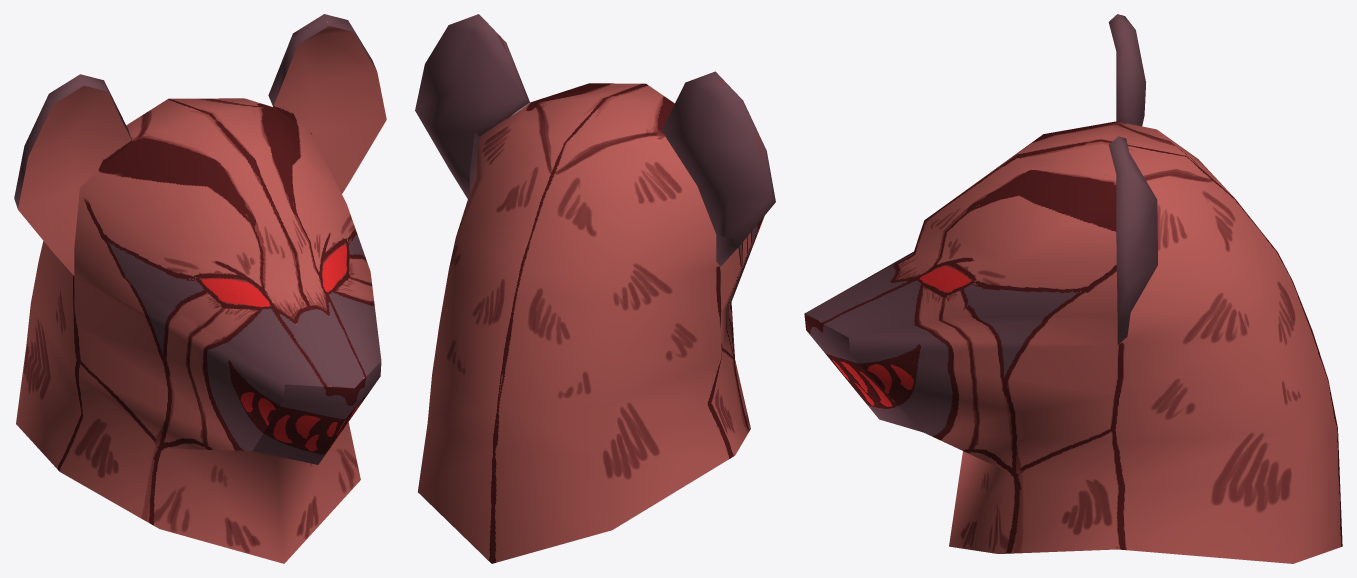
The model's file is HyenaPlayerMask.fbx.
3 views of the same model, side by side, from view 1: azimuth 30°, elevation 25°; view 2: azimuth 150°, elevation 25°; view 3: azimuth 270°, elevation 25° (orthographic). The views are drawn at different scales.
Visible parts, largest first — view 1: Cylinder; view 2: Cylinder; view 3: Cylinder.
Part boxes in pixels (x1,y1,x2,y2): Cylinder: (14, 14, 386, 563); Cylinder: (415, 14, 775, 563); Cylinder: (804, 14, 1342, 563).
Size of the model in its own units: 41.45 by 49.34 by 51.03.
1 material, 1 textured.
